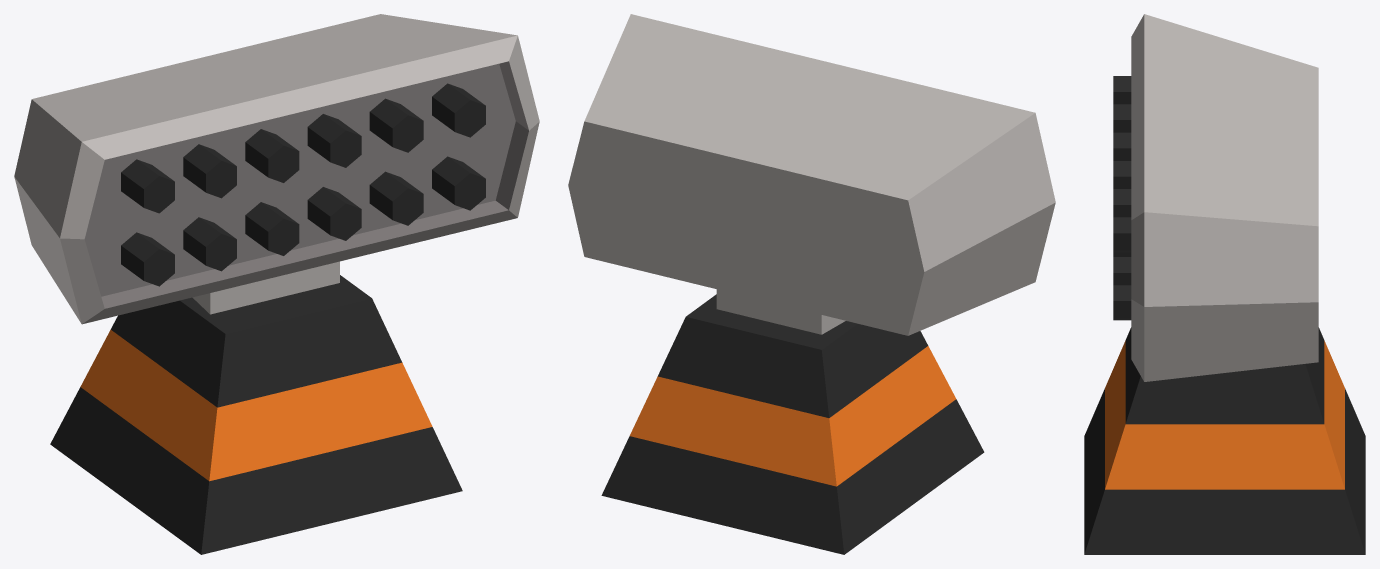
Rendered from scifi_scifi-turret-head-missile-small.fbx.
The picture shows the model from 3 angles, left to right: view 1: azimuth 30°, elevation 25°; view 2: azimuth 150°, elevation 25°; view 3: azimuth 270°, elevation 25°; orthographic projection. The views are drawn at different scales.
Parts seen in each view (by area): view 1: scifi_scifi_turret_head_missile_small; view 2: scifi_scifi_turret_head_missile_small; view 3: scifi_scifi_turret_head_missile_small.
Part boxes in pixels (x1,y1,x2,y2): scifi_scifi_turret_head_missile_small: (14, 14, 539, 554); scifi_scifi_turret_head_missile_small: (568, 14, 1055, 554); scifi_scifi_turret_head_missile_small: (1084, 14, 1365, 554).
Bounding box in the file's own units: 169 × 138 × 92.31.
